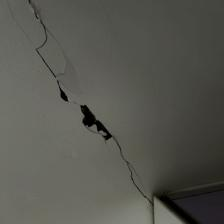Medium: (30, 16, 135, 176)
